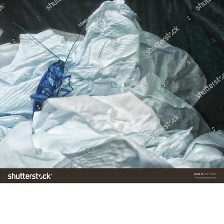tissue: (0, 0, 224, 168)
